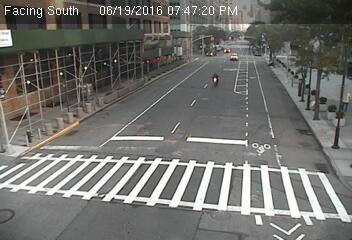neg: (296, 84, 326, 124), (78, 176, 105, 212), (47, 115, 73, 149), (26, 58, 51, 91), (296, 142, 320, 174), (255, 71, 278, 102), (69, 53, 92, 84), (234, 166, 256, 197), (244, 112, 266, 142), (120, 85, 142, 115), (154, 46, 176, 76), (91, 110, 112, 138), (184, 181, 204, 209), (178, 122, 196, 146), (206, 66, 222, 87), (125, 155, 141, 176), (233, 58, 247, 77)
